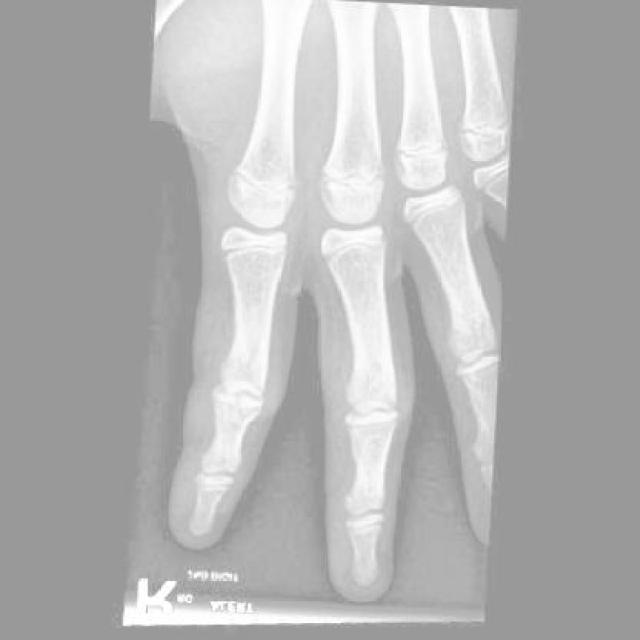Fracture: (214, 391, 262, 434)
